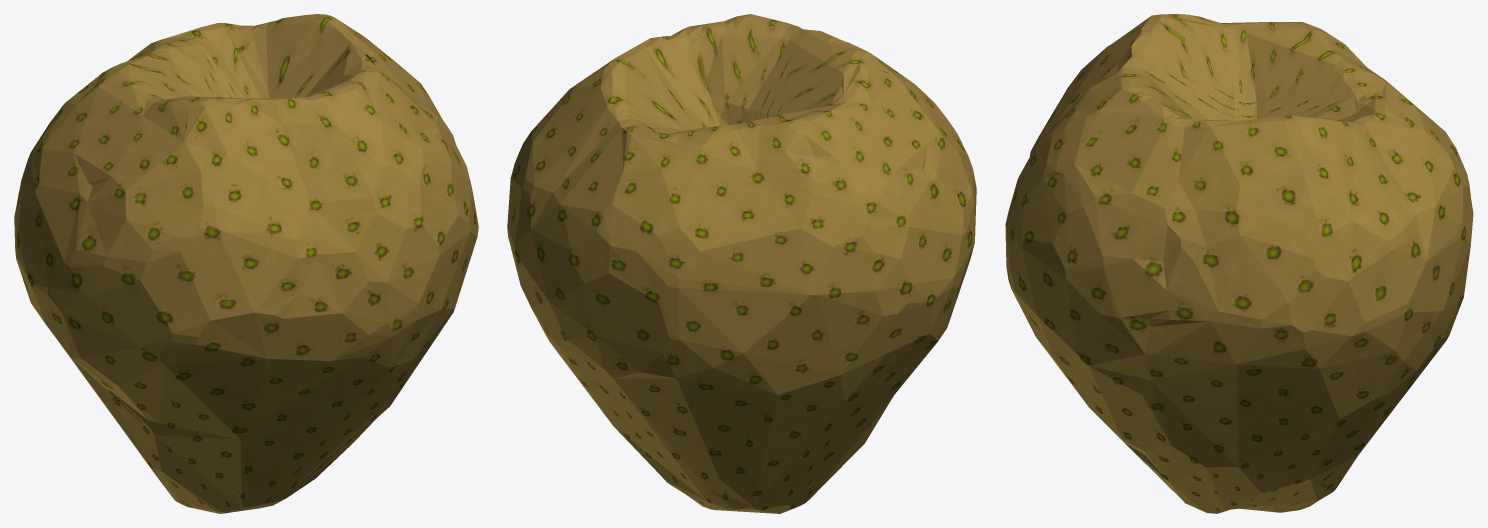
The picture shows the model from 3 angles, left to right: view 1: azimuth 30°, elevation 25°; view 2: azimuth 150°, elevation 25°; view 3: azimuth 270°, elevation 25°; orthographic projection. The views are drawn at different scales.
Parts seen in each view (by area): view 1: _004_Meshed; view 2: _004_Meshed; view 3: _004_Meshed.
Boxes of the visible parts, bbox=[...] form: _004_Meshed: bbox=[14, 14, 478, 513]; _004_Meshed: bbox=[507, 14, 976, 513]; _004_Meshed: bbox=[1005, 14, 1473, 513].
Bounding box in the file's own units: 0.1098 × 0.1046 × 0.1135.
1 material, 1 textured.
